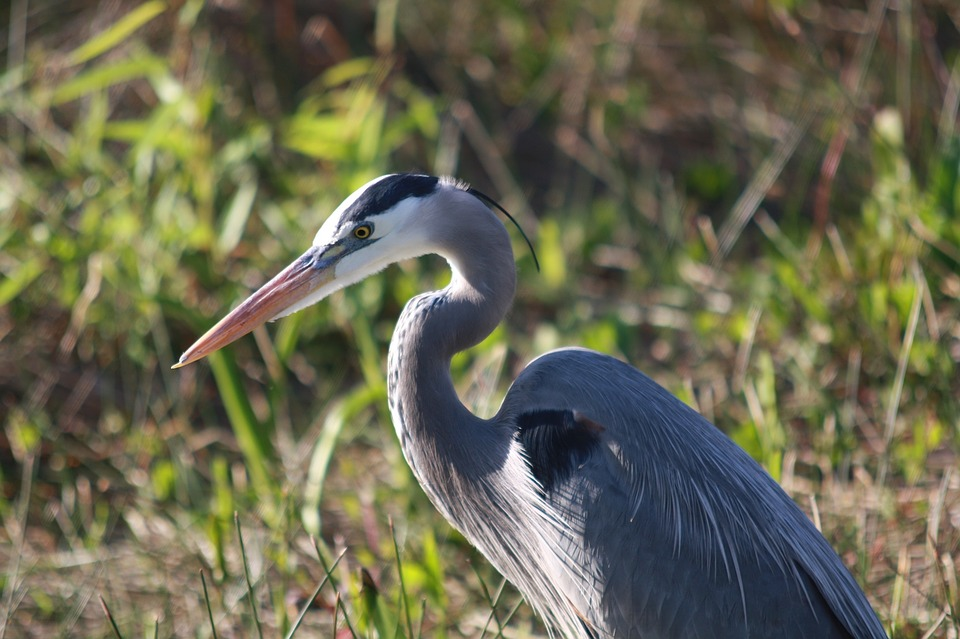heron: (160, 140, 897, 639)
